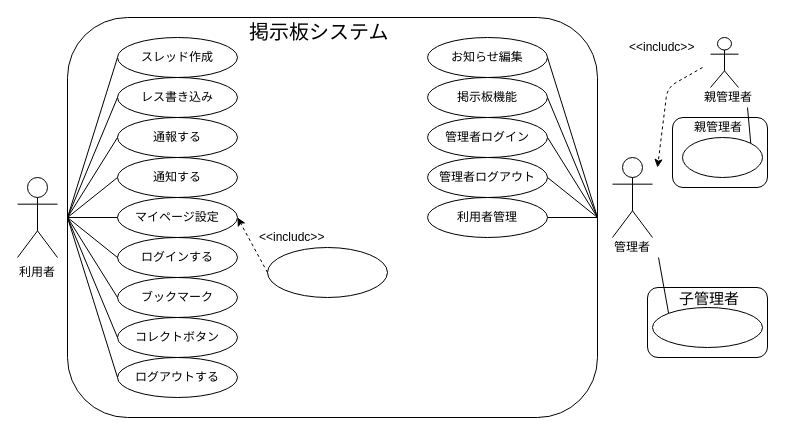
Image size: 785x435. Some labels were removed from this diagram. The shapes that lost their labels are listed below. From the top down, each one's centre as x and y in pixels, then its label:
At (722,157): "子管理者登録".
At (327,272): "拡張機能解放".
At (707,327): "利用者登録".
